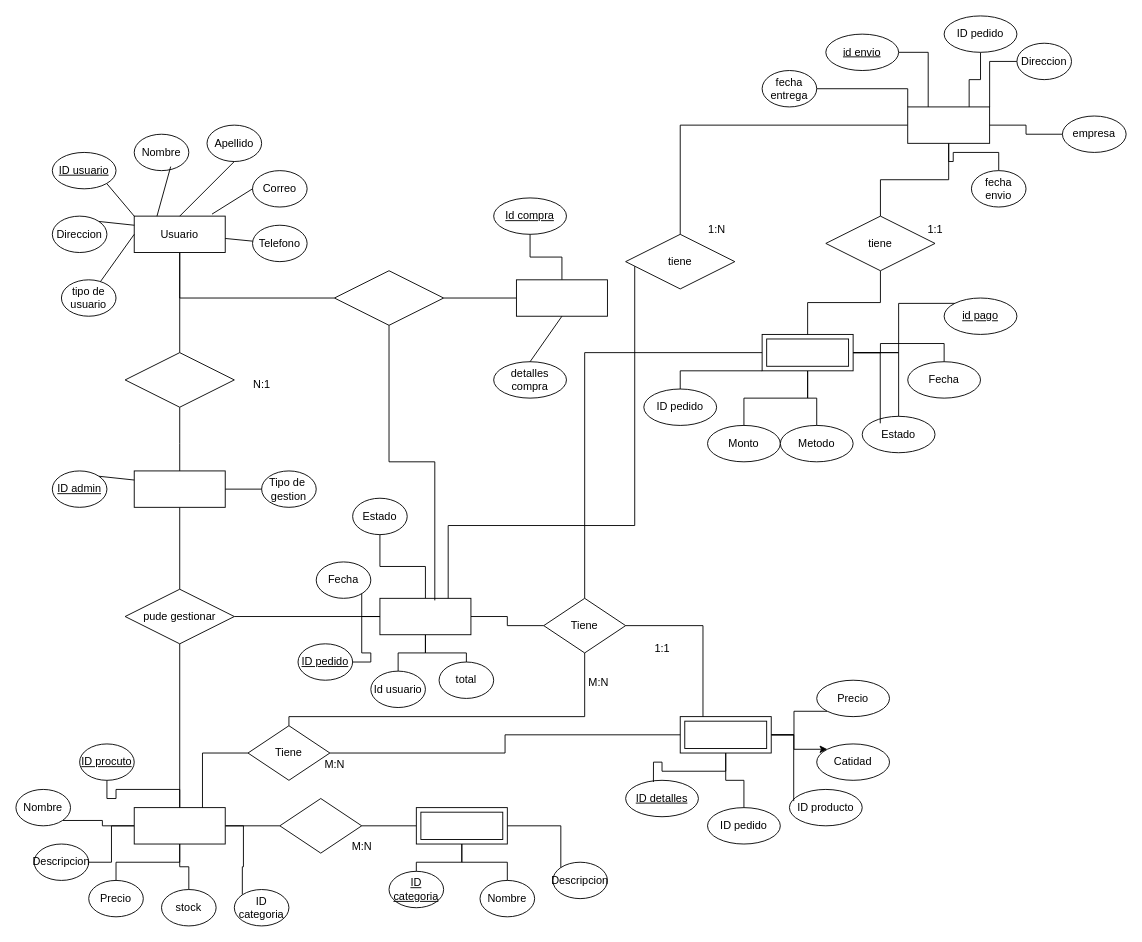
The diagram is 1142 pixels wide and 942 high, and some of its shapes have lost their labels. The shapes that lost their labels are listed below. From the top down, each one's box as (x1, y1, x2, y2) in pixels, then its label:
(907, 106, 990, 143): Envio
(334, 270, 444, 325): puede realizar
(516, 279, 607, 316): Compras
(761, 334, 853, 371): pago
(124, 352, 234, 407): pude ser
(133, 470, 225, 507): Administrador
(379, 597, 471, 635): Pedido
(679, 716, 771, 753): Detallles de pedido
(133, 807, 225, 844): Producto
(279, 798, 362, 853): tipo de
(415, 807, 507, 844): Categoria
